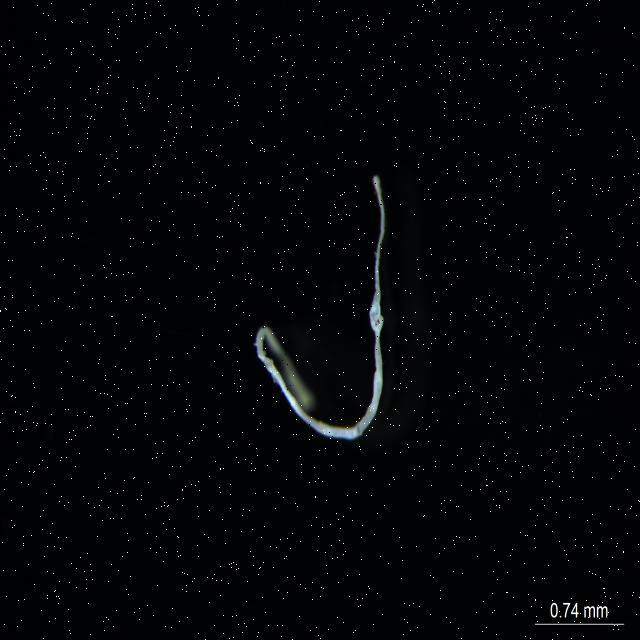Fibre: (246, 168, 390, 452)
